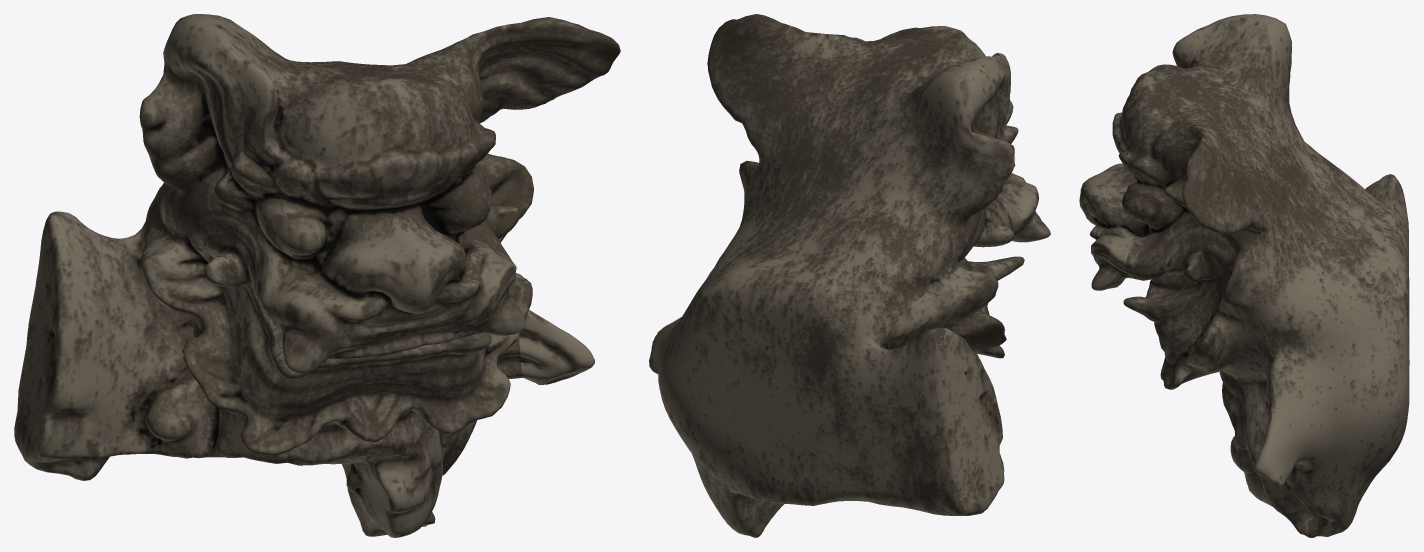
The model's file is dragon_vietnam_2.glb.
3 views of the same model, side by side, from view 1: azimuth 30°, elevation 25°; view 2: azimuth 150°, elevation 25°; view 3: azimuth 270°, elevation 25° (orthographic). The views are drawn at different scales.
Parts seen in each view (by area): view 1: g; view 2: g; view 3: g.
Boxes of the visible parts, x1,y1,x2,y2 form: g: (14,14,620,537); g: (649,14,1050,537); g: (1079,14,1409,537).
Bounding box in the file's own units: 1.71 × 2 × 1.36.
Materials: 1 (1 with a texture image).
